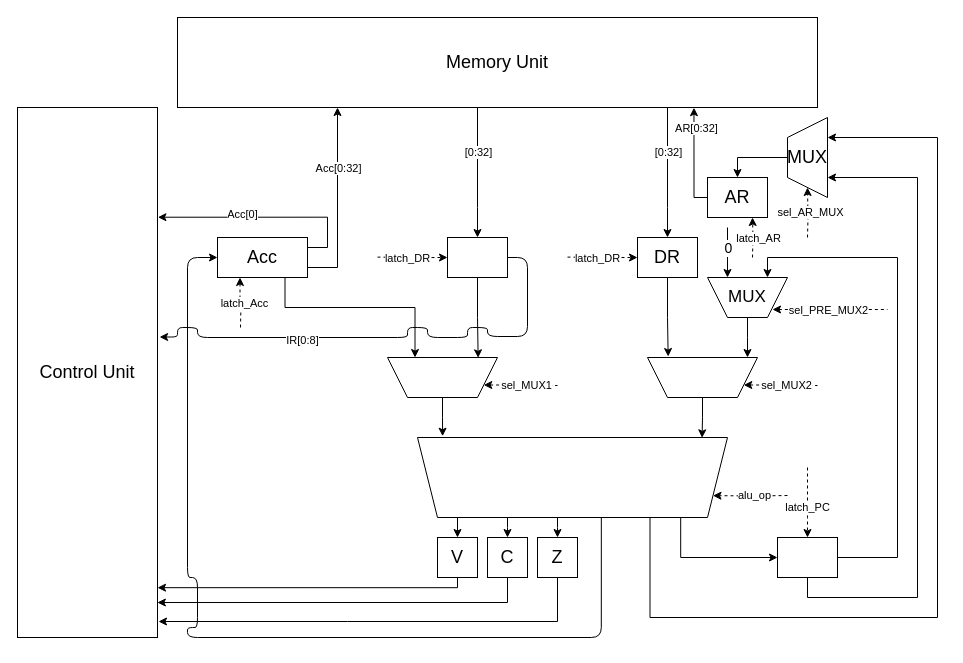
This 963x663 diagram has some shape labels left out. Each missing label, with the box of its shape:
ALU: (416, 436, 728, 518)
IR: (446, 236, 508, 278)
MUX1: (386, 356, 498, 398)
MUX2: (646, 356, 758, 398)
PC: (776, 536, 838, 578)
